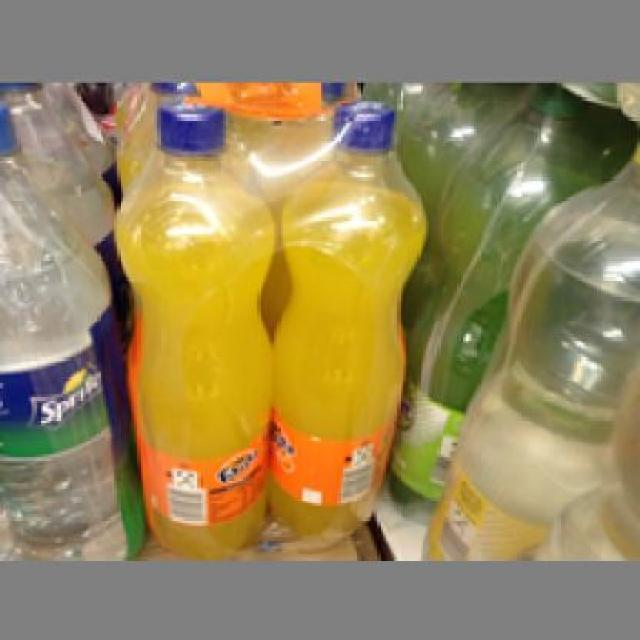Soda: (112, 97, 268, 552), (270, 97, 426, 537), (0, 104, 135, 555)
